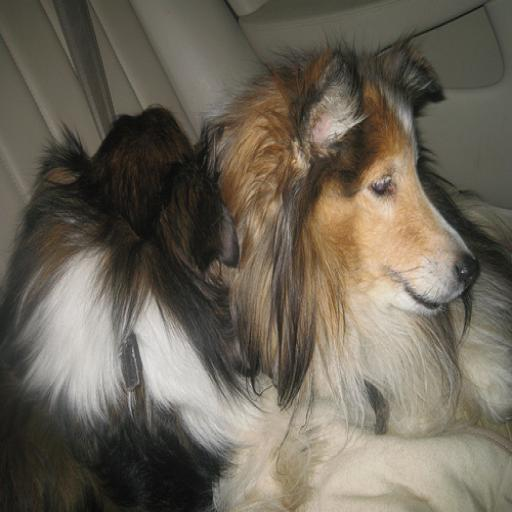dog_face: (276, 49, 482, 328)
